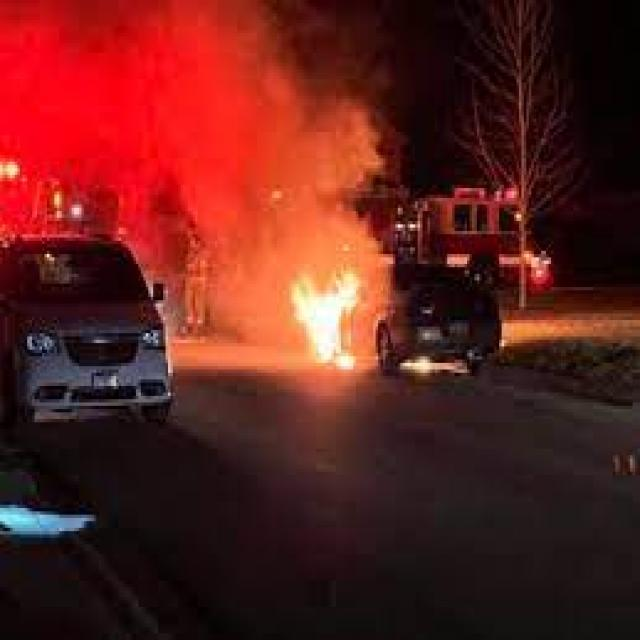fire: (286, 274, 361, 379)
smoke: (2, 3, 390, 270)
